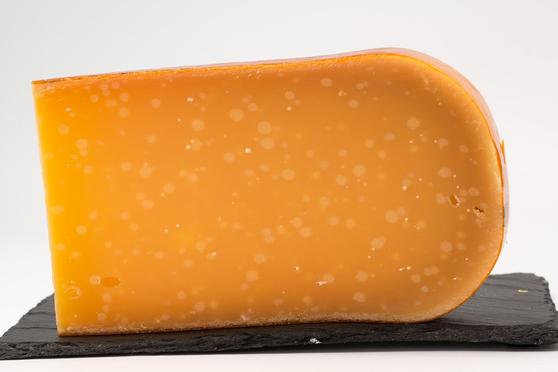cheese: (27, 43, 511, 330)
